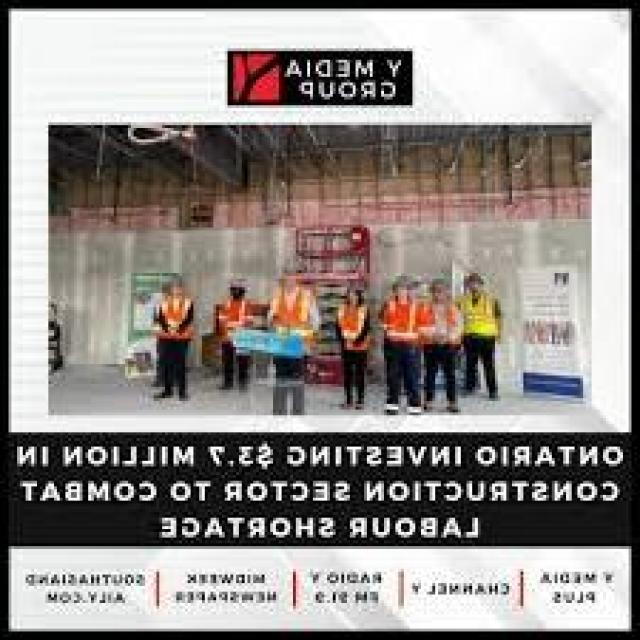Reflective-Jacket: (145, 290, 202, 356), (378, 293, 432, 353), (333, 299, 375, 358), (458, 290, 503, 344)
